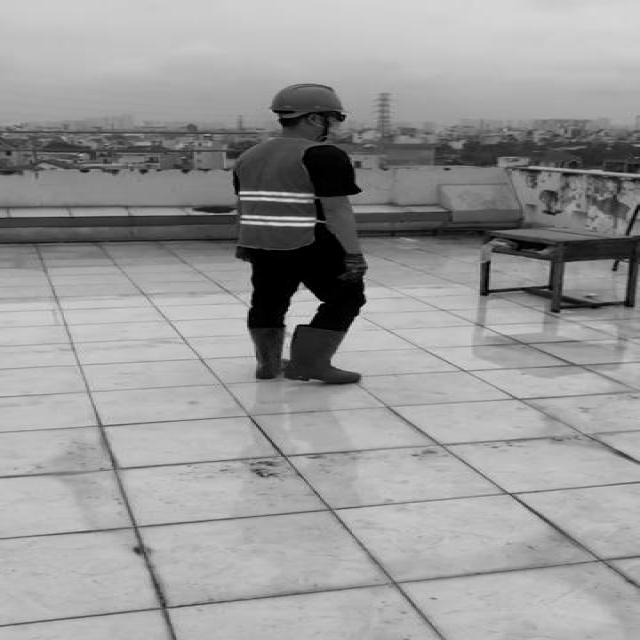boots: (288, 326, 361, 384), (247, 324, 286, 380)
hand_glove: (338, 251, 368, 282)
head_helmet: (262, 78, 350, 118)
person: (216, 78, 387, 386)
vest: (237, 137, 327, 249)
